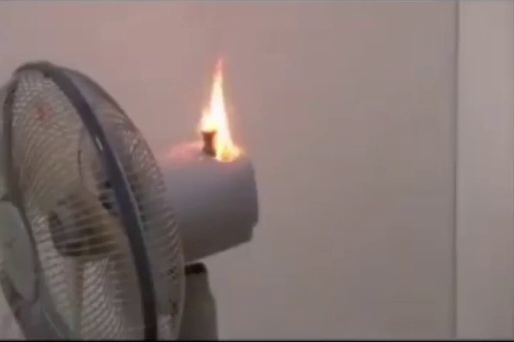fire: (197, 63, 249, 162)
